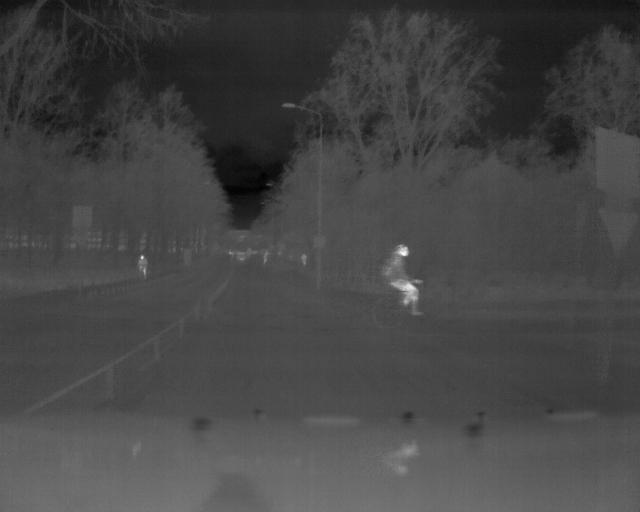person: (382, 241, 427, 318), (136, 253, 150, 280)
